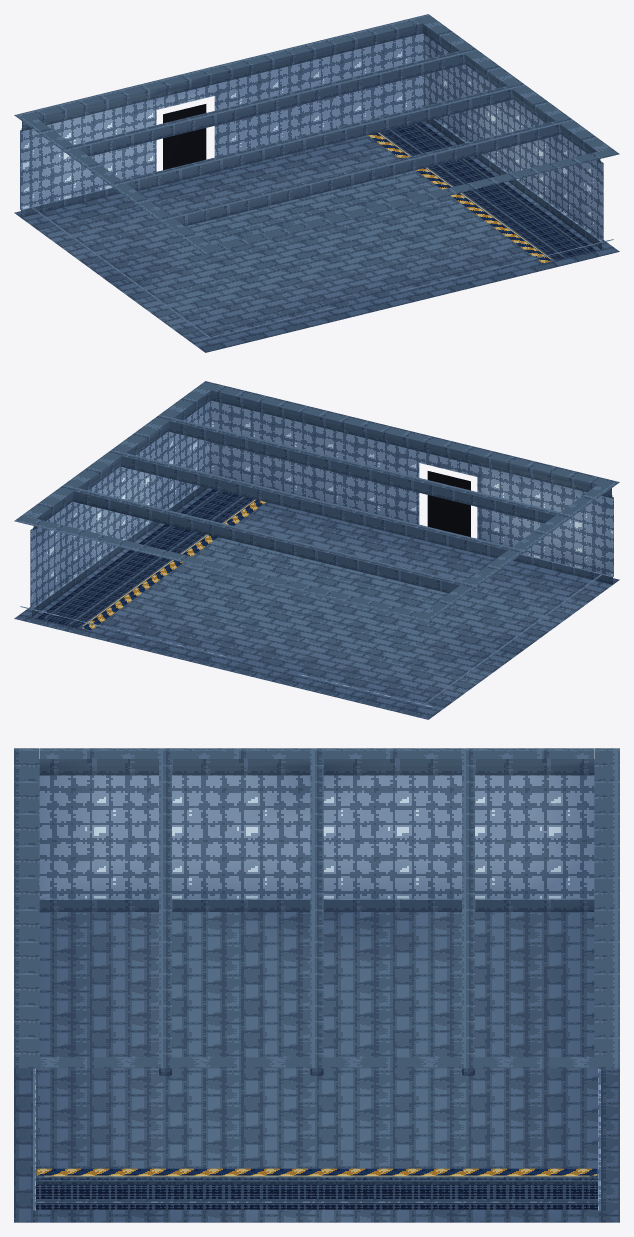
Rendered from cyroom.subway__arena.glb.
The picture shows the model from 3 angles, top to bottom: view 1: azimuth 30°, elevation 25°; view 2: azimuth 150°, elevation 25°; view 3: azimuth 270°, elevation 25°; orthographic projection. The views are drawn at different scales.
Visible parts, largest first — view 1: kit_shell_floor, kit_shell_walls, kit_shell_rig, kit_card_lights, kit_trim; view 2: kit_shell_floor, kit_shell_walls, kit_shell_rig, kit_card_lights, kit_trim; view 3: kit_shell_floor, kit_shell_walls, kit_shell_rig, kit_trim, kit_card_lights.
Boxes of the visible parts, x1=… form: kit_shell_floor: x1=14, y1=121, x2=619, y2=352; kit_shell_walls: x1=14, y1=14, x2=619, y2=340; kit_shell_rig: x1=73, y1=51, x2=560, y2=226; kit_card_lights: x1=163, y1=104, x2=550, y2=258; kit_trim: x1=387, y1=123, x2=589, y2=259; kit_shell_floor: x1=14, y1=488, x2=619, y2=719; kit_shell_walls: x1=14, y1=381, x2=619, y2=707; kit_shell_rig: x1=73, y1=418, x2=560, y2=593; kit_card_lights: x1=83, y1=471, x2=470, y2=625; kit_trim: x1=44, y1=490, x2=246, y2=626; kit_shell_floor: x1=14, y1=912, x2=619, y2=1222; kit_shell_walls: x1=14, y1=748, x2=619, y2=1210; kit_shell_rig: x1=159, y1=757, x2=474, y2=1075; kit_trim: x1=36, y1=1179, x2=597, y2=1203; kit_card_lights: x1=44, y1=1175, x2=589, y2=1176.
Size of the model in its own units: 20 by 4.5 by 16.
8 materials, 8 textured.
